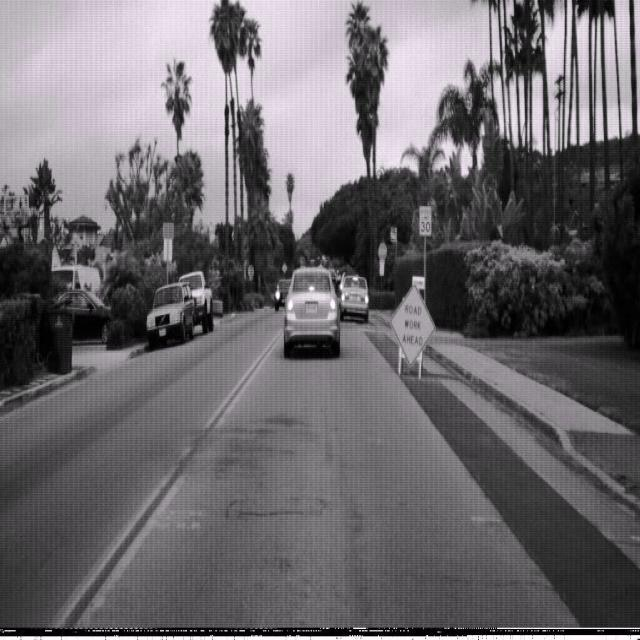speedLimit30: (419, 205, 432, 235)
